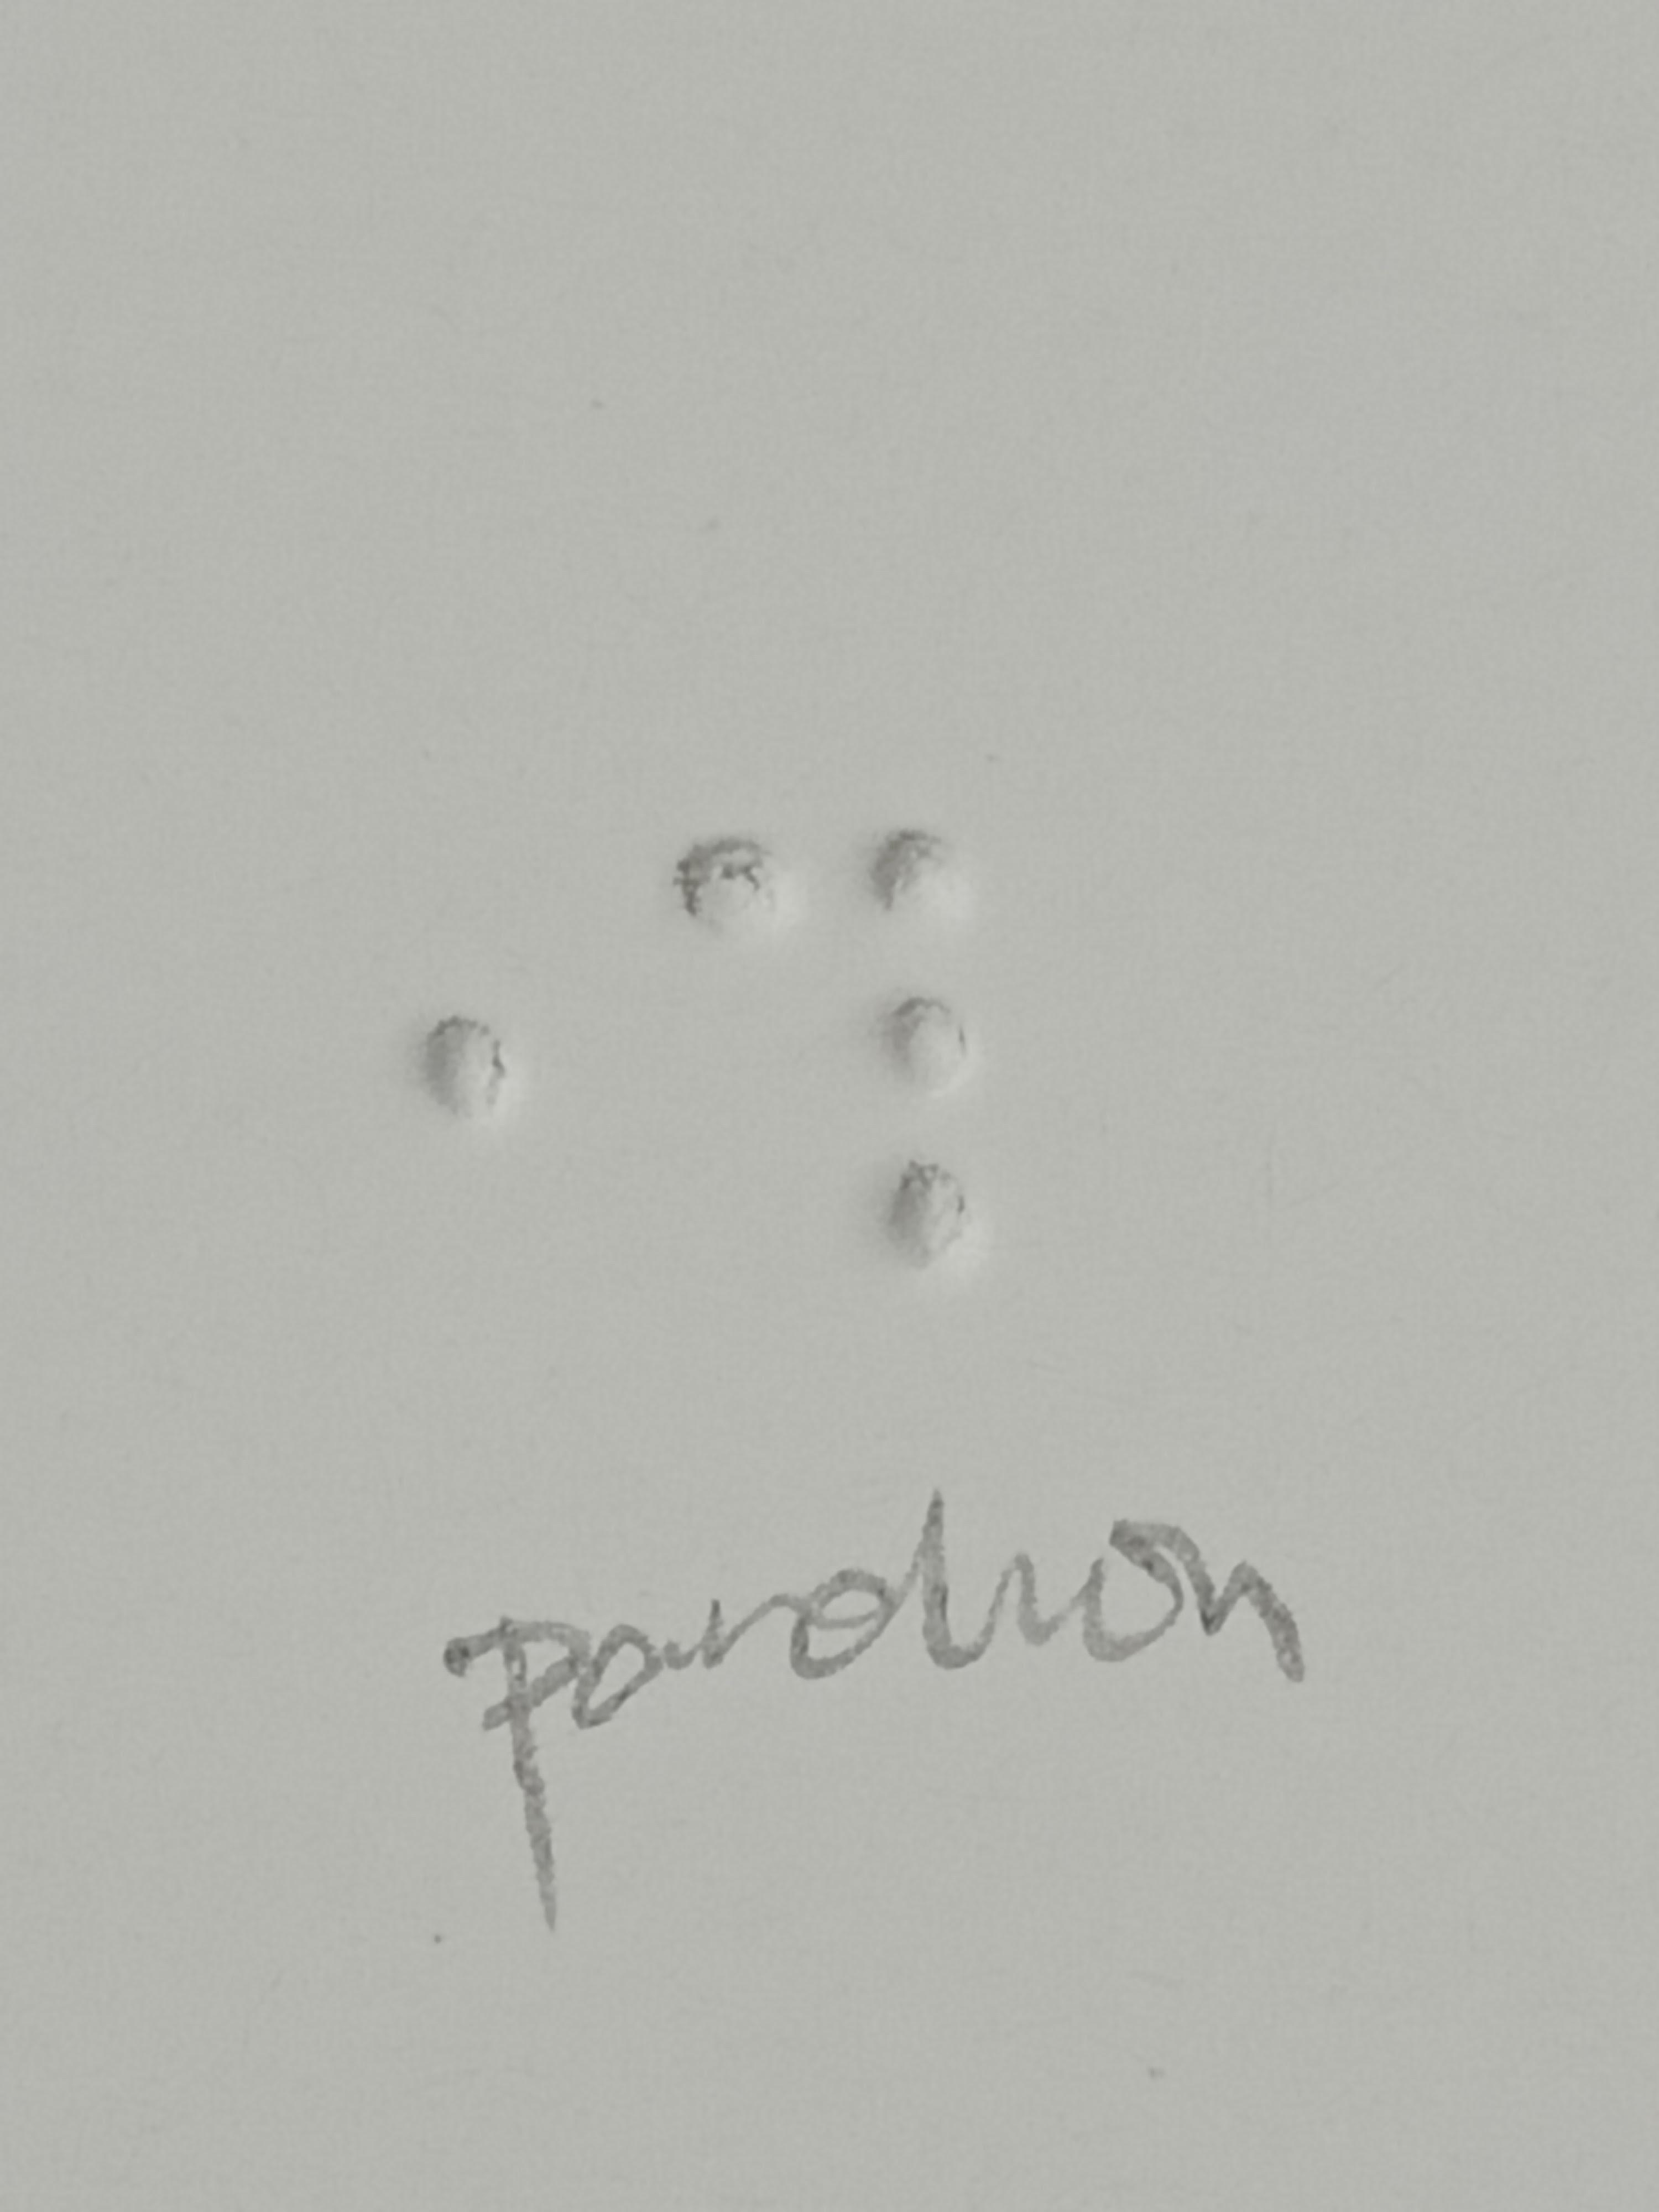dot_5: (214, 815, 523, 1285)
two_cell_non_alphabet_panahon: (671, 820, 978, 1291)
